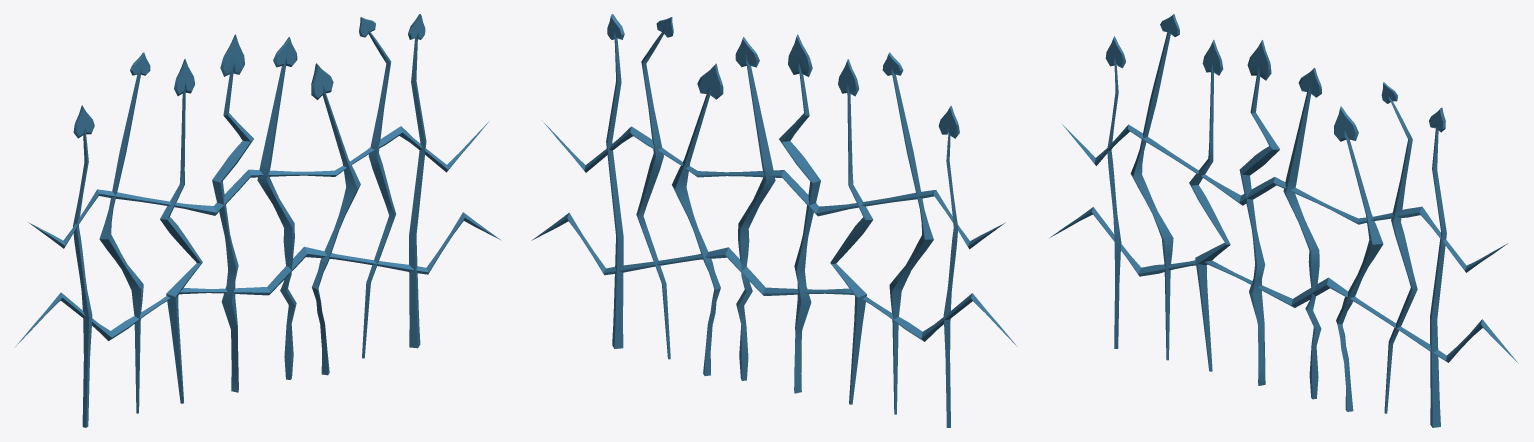
File: Mesh_Reja_v001.fbx
The picture shows the model from 3 angles, left to right: view 1: azimuth 30°, elevation 25°; view 2: azimuth 150°, elevation 25°; view 3: azimuth 330°, elevation 25°; orthographic projection. The views are drawn at different scales.
Parts seen in each view (by area): view 1: Mesh_Reja_v001; view 2: Mesh_Reja_v001; view 3: Mesh_Reja_v001.
Part boxes in pixels (<box>): Mesh_Reja_v001: <box>15,14,500,427</box>; Mesh_Reja_v001: <box>531,14,1017,427</box>; Mesh_Reja_v001: <box>1050,14,1518,427</box>.
Size of the model in its own units: 18.68 by 13.38 by 0.5281.
